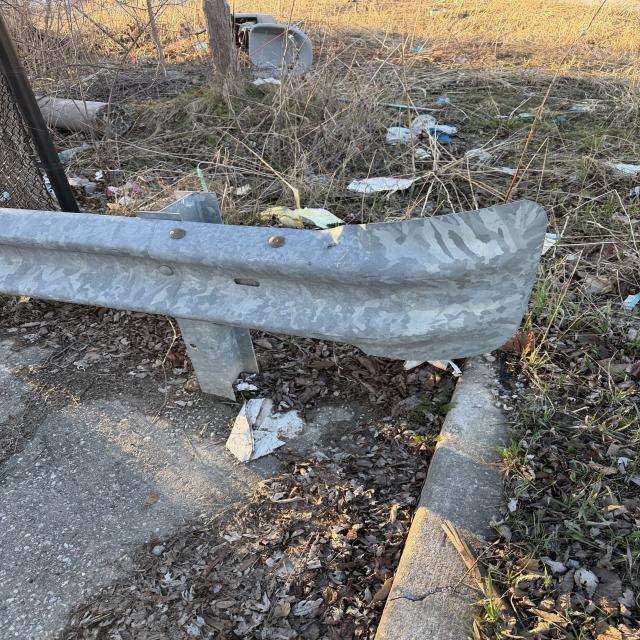Guard rail: (8, 202, 527, 356)
